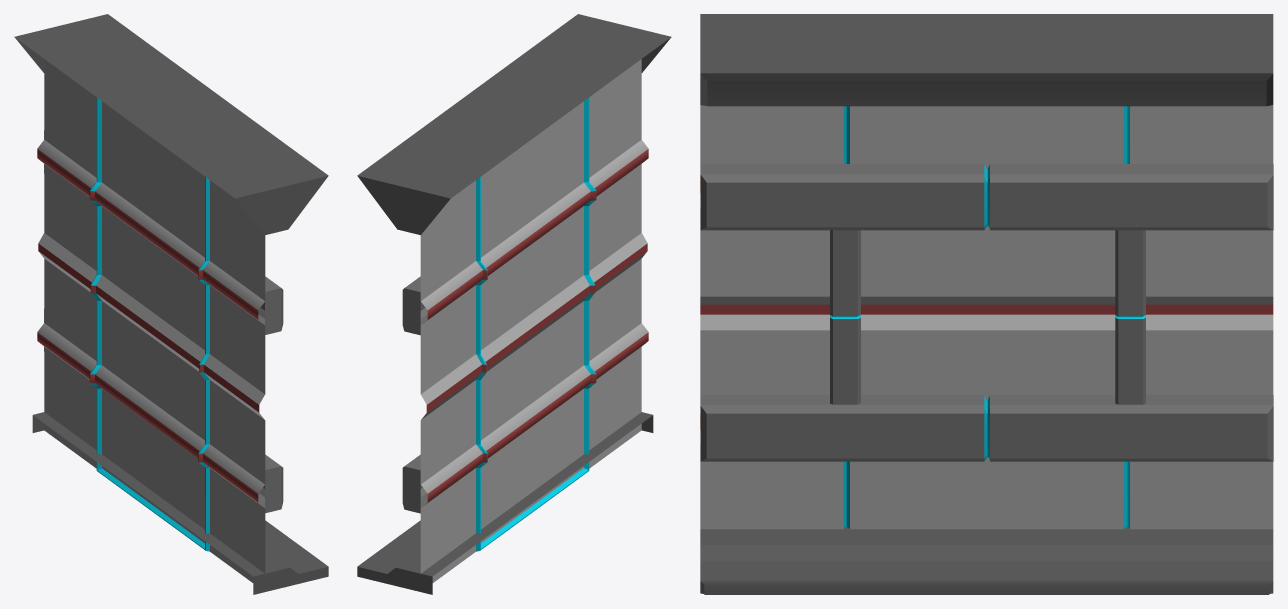
File: SM_Module_05.fbx
3 renders of one model, left to right at view 1: azimuth 30°, elevation 25°; view 2: azimuth 150°, elevation 25°; view 3: azimuth 270°, elevation 25°, orthographic. The views are drawn at different scales.
Parts seen in each view (by area): view 1: SM_Module_05; view 2: SM_Module_05; view 3: SM_Module_05.
Boxes of the visible parts, x1=… form: SM_Module_05: x1=14, y1=14, x2=328, y2=594; SM_Module_05: x1=357, y1=14, x2=671, y2=594; SM_Module_05: x1=700, y1=14, x2=1273, y2=594.
Size of the model in its own units: 149 by 601 by 600.
